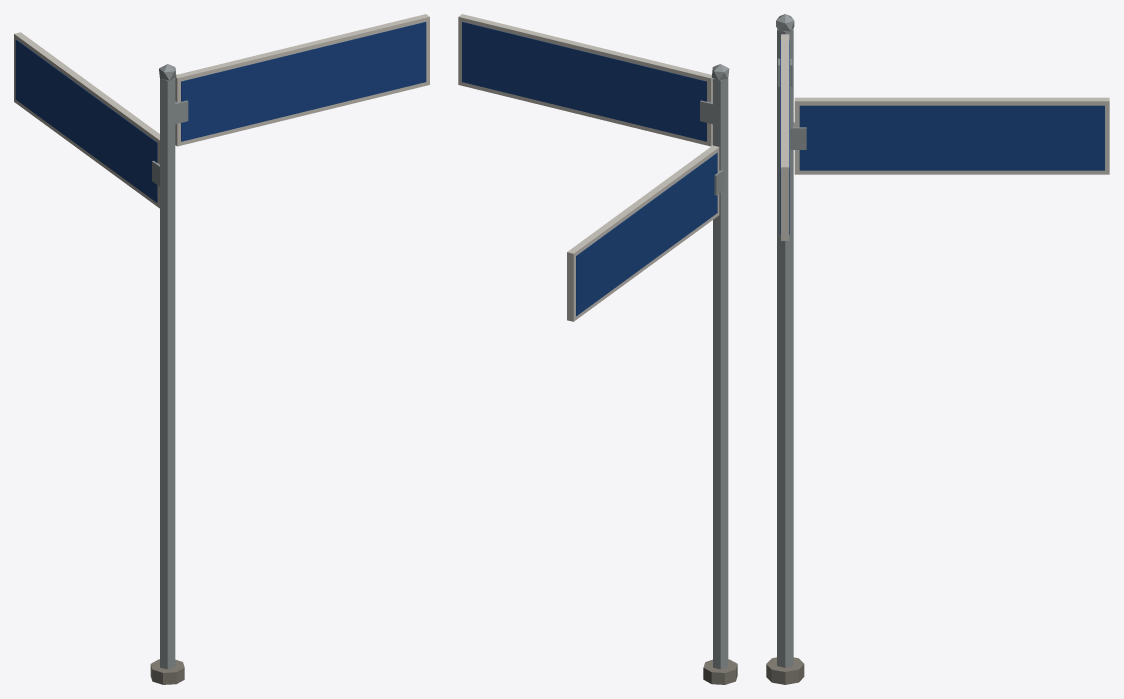
Rendered from bien_ten_duong.glb.
3 views of the same model, side by side, from view 1: azimuth 30°, elevation 25°; view 2: azimuth 150°, elevation 25°; view 3: azimuth 270°, elevation 25° (orthographic). The views are drawn at different scales.
Parts seen in each view (by area): view 1: bien_ten_duong; view 2: bien_ten_duong; view 3: bien_ten_duong.
Boxes of the visible parts, x1=… form: bien_ten_duong: x1=14, y1=14, x2=429, y2=684; bien_ten_duong: x1=458, y1=14, x2=737, y2=684; bien_ten_duong: x1=766, y1=14, x2=1109, y2=684.
Bounding box in the file's own units: 1.44 × 3.07 × 1.44.
